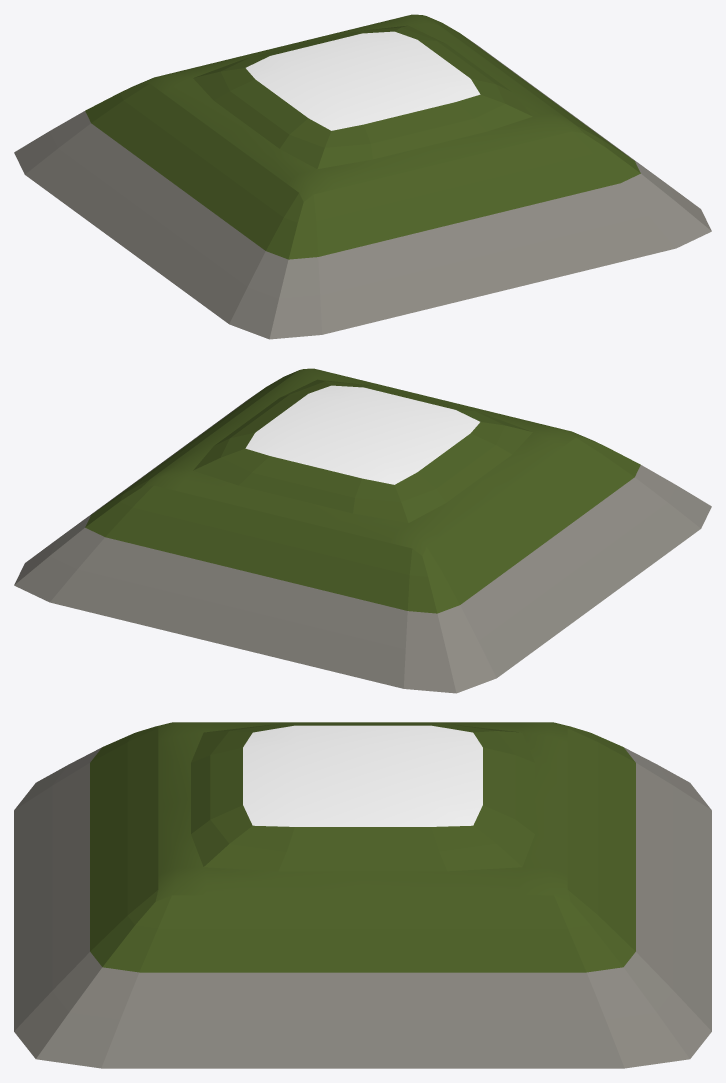
The model's file is Island5.FBX.
3 renders of one model, top to bottom at view 1: azimuth 30°, elevation 25°; view 2: azimuth 150°, elevation 25°; view 3: azimuth 270°, elevation 25°, orthographic. The views are drawn at different scales.
Parts seen in each view (by area): view 1: Plane001; view 2: Plane001; view 3: Plane001.
Part boxes in pixels (bbox=[...]): Plane001: bbox=[14, 14, 711, 339]; Plane001: bbox=[14, 368, 711, 693]; Plane001: bbox=[14, 722, 711, 1068].
Size of the model in its own units: 40 by 9.39 by 40.
